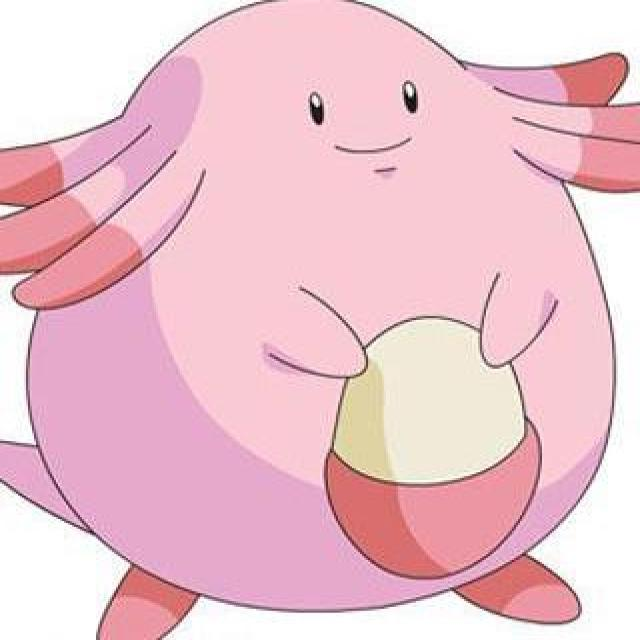Chansey: (0, 0, 637, 622)
